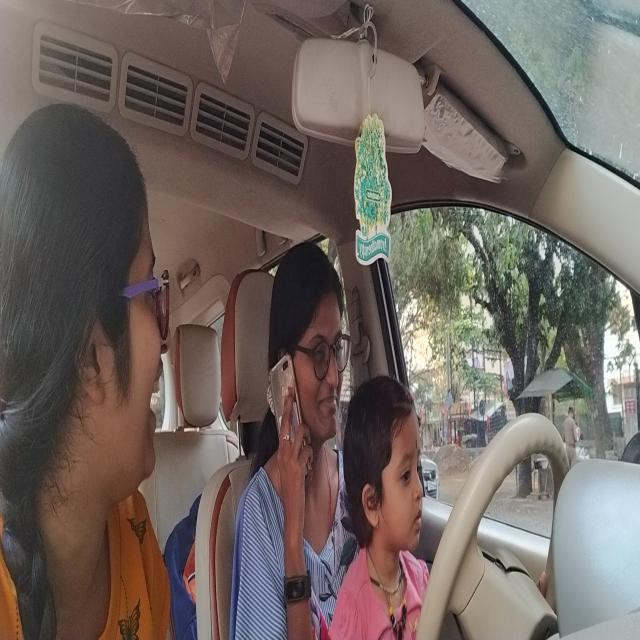child: (345, 365, 425, 577)
mobile: (269, 350, 312, 490)
person: (0, 98, 180, 524), (270, 234, 351, 447)
